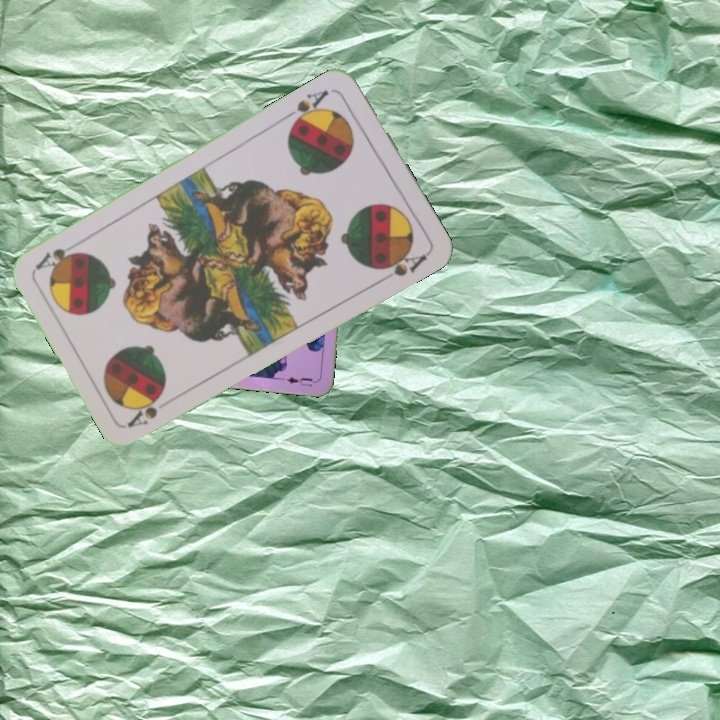SA: (281, 85, 331, 130), (124, 389, 167, 430)
